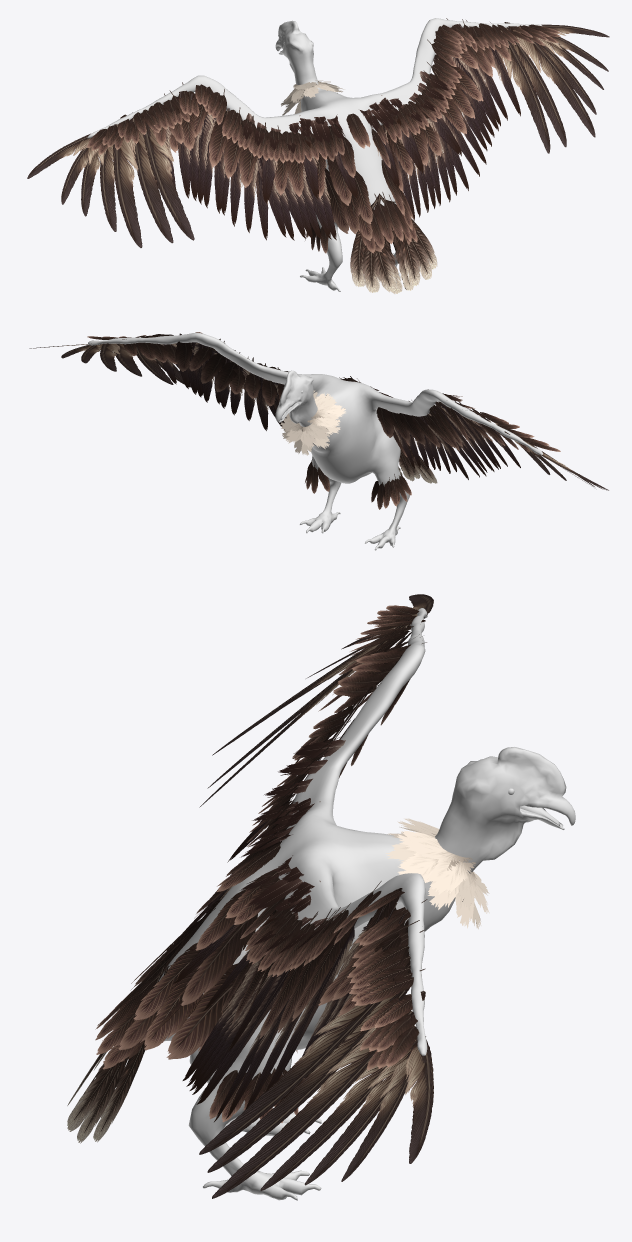
The model's file is lp_condor_Final.fbx.
3 renders of one model, top to bottom at view 1: azimuth 30°, elevation 25°; view 2: azimuth 150°, elevation 25°; view 3: azimuth 270°, elevation 25°, orthographic. The views are drawn at different scales.
Parts seen in each view (by area): view 1: condor3.001, Plane.043, Plane.032, Plane.033, Plane.022, Plane.045, Plane.021, Plane.020, Plane.037, Plane.019, Plane.047, Plane.080 (+40 smaller); view 2: condor3.001, Plane.066, Plane.065, Plane.030, Plane.062, Plane.068, Plane.037, Plane.033, Plane.036, Plane.035, Plane.052, Plane.032 (+18 smaller); view 3: condor3.001, Plane.032, Plane.043, Plane.033, Plane.019, Plane.022, Plane.091, Plane.021, Plane.087, Plane.020, Plane.145, Plane.144 (+19 smaller).
Boxes of the visible parts, bbox=[...] form: condor3.001: bbox=[87, 18, 542, 291]; Plane.043: bbox=[141, 29, 550, 240]; Plane.032: bbox=[113, 25, 595, 247]; Plane.033: bbox=[130, 27, 566, 243]; Plane.022: bbox=[100, 44, 596, 231]; Plane.045: bbox=[370, 185, 420, 292]; Plane.021: bbox=[81, 37, 603, 216]; Plane.020: bbox=[61, 36, 608, 204]; Plane.037: bbox=[197, 56, 498, 204]; Plane.019: bbox=[27, 24, 609, 178]; Plane.047: bbox=[350, 195, 437, 286]; Plane.080: bbox=[209, 58, 483, 167]; condor3.001: bbox=[88, 332, 542, 550]; Plane.066: bbox=[200, 353, 462, 446]; Plane.065: bbox=[215, 362, 459, 450]; Plane.030: bbox=[255, 375, 468, 479]; Plane.062: bbox=[261, 379, 440, 447]; Plane.068: bbox=[175, 341, 468, 441]; Plane.037: bbox=[193, 344, 498, 469]; Plane.033: bbox=[135, 343, 566, 480]; Plane.036: bbox=[201, 347, 494, 471]; Plane.035: bbox=[219, 357, 487, 472]; Plane.052: bbox=[280, 418, 329, 440]; Plane.032: bbox=[114, 338, 594, 486]; condor3.001: bbox=[159, 608, 575, 1200]; Plane.032: bbox=[212, 617, 413, 1198]; Plane.043: bbox=[199, 630, 396, 1154]; Plane.033: bbox=[207, 625, 406, 1172]; Plane.019: bbox=[405, 594, 433, 1163]; Plane.022: bbox=[260, 625, 416, 1190]; Plane.091: bbox=[166, 962, 252, 1059]; Plane.021: bbox=[304, 624, 425, 1185]; Plane.087: bbox=[180, 844, 273, 1005]; Plane.020: bbox=[341, 620, 412, 1181]; Plane.145: bbox=[133, 911, 211, 1020]; Plane.144: bbox=[144, 961, 203, 1050].
Bounding box in the file's own units: 1886 × 639 × 721.
